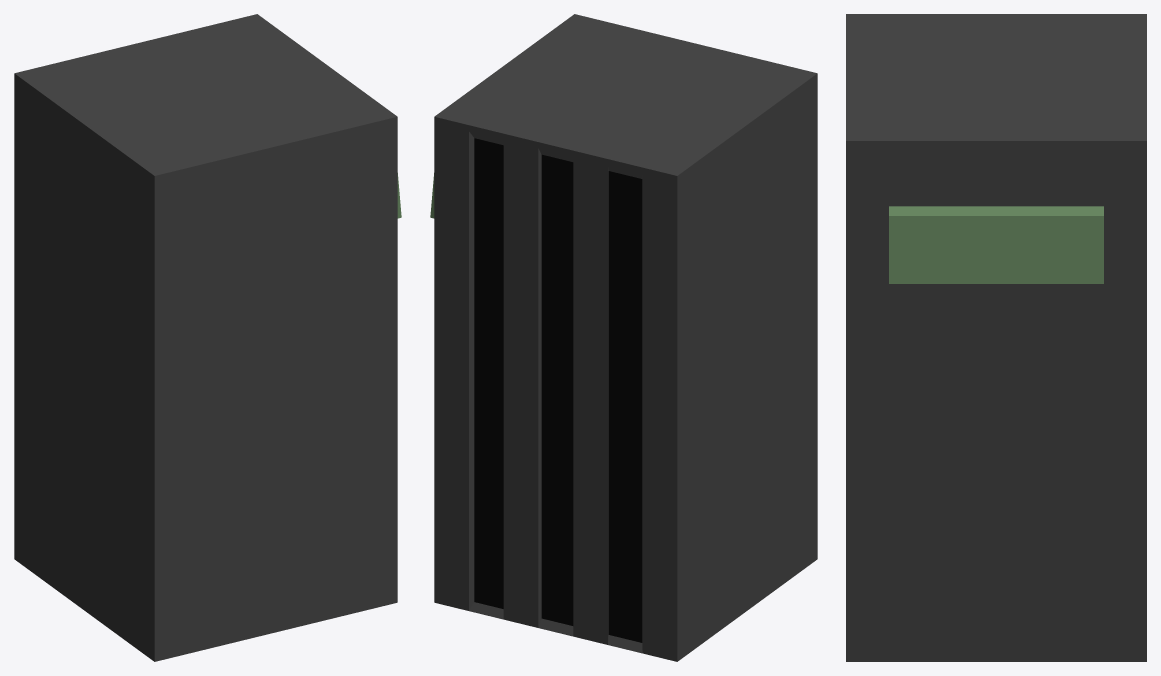
Rendered from Building_One_Retexture.fbx.
3 views of the same model, side by side, from view 1: azimuth 30°, elevation 25°; view 2: azimuth 150°, elevation 25°; view 3: azimuth 270°, elevation 25° (orthographic). The views are drawn at different scales.
Visible parts, largest first — view 1: pCube1; view 2: pCube1; view 3: pCube1.
Boxes of the visible parts, left/top/right/bottom form: pCube1: left=14, top=14, right=401, bottom=661; pCube1: left=430, top=14, right=817, bottom=661; pCube1: left=846, top=14, right=1146, bottom=661.
Bounding box in the file's own units: 821 × 1427 × 747.
